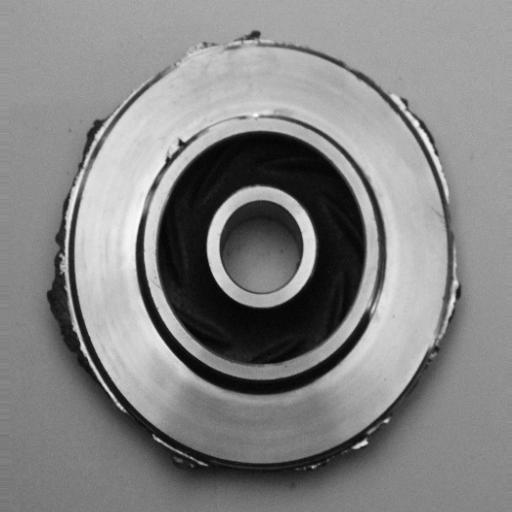casting_with_burr: (43, 26, 466, 479)
crack: (157, 130, 195, 173)
scratch: (225, 99, 299, 127), (363, 269, 395, 329)
